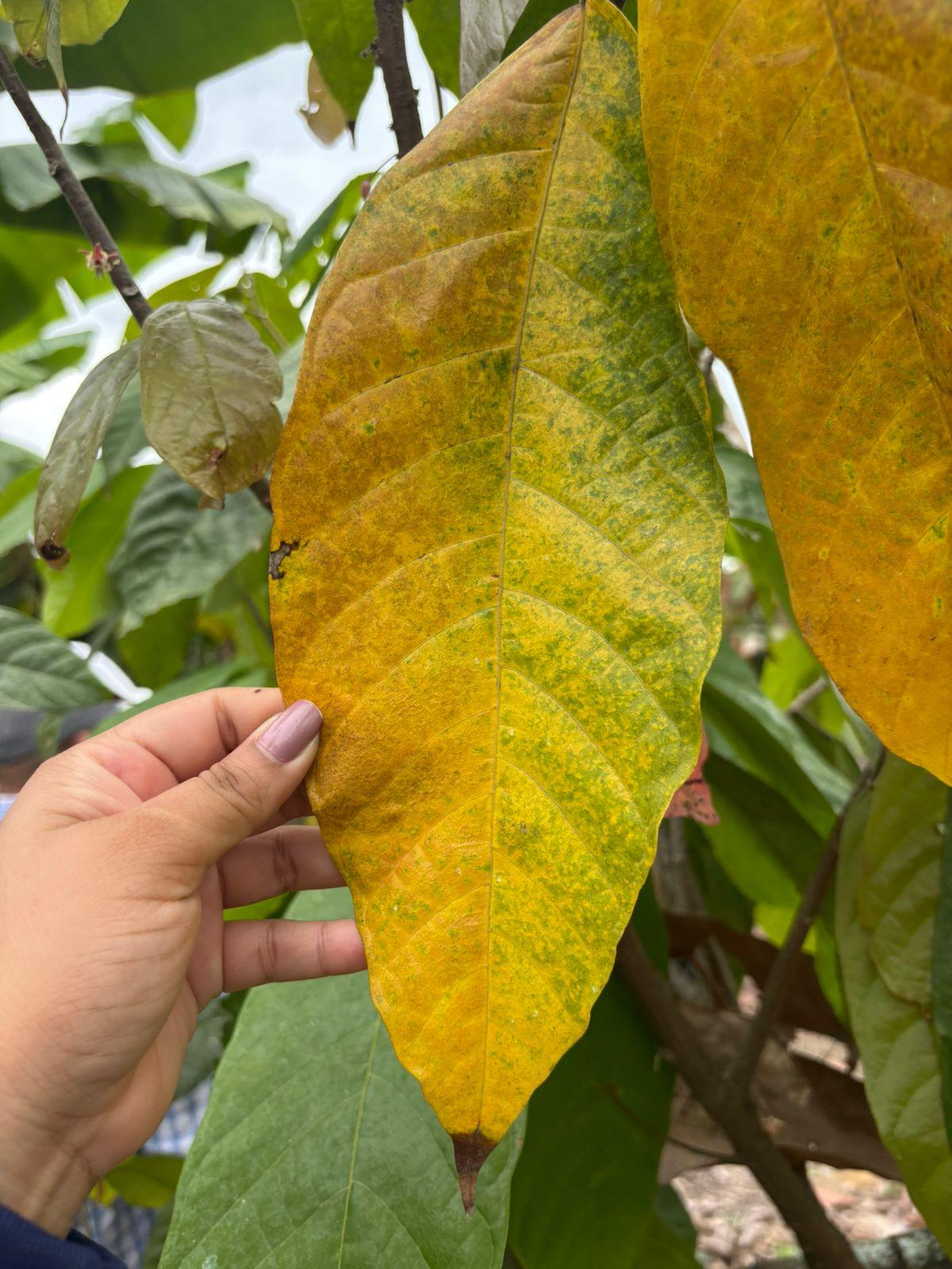deficienciia_fosforo: (270, 0, 725, 1201)
